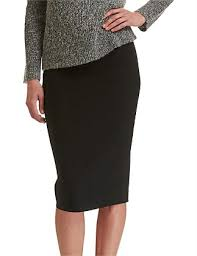F_tailored skirt: (35, 32, 147, 212)
